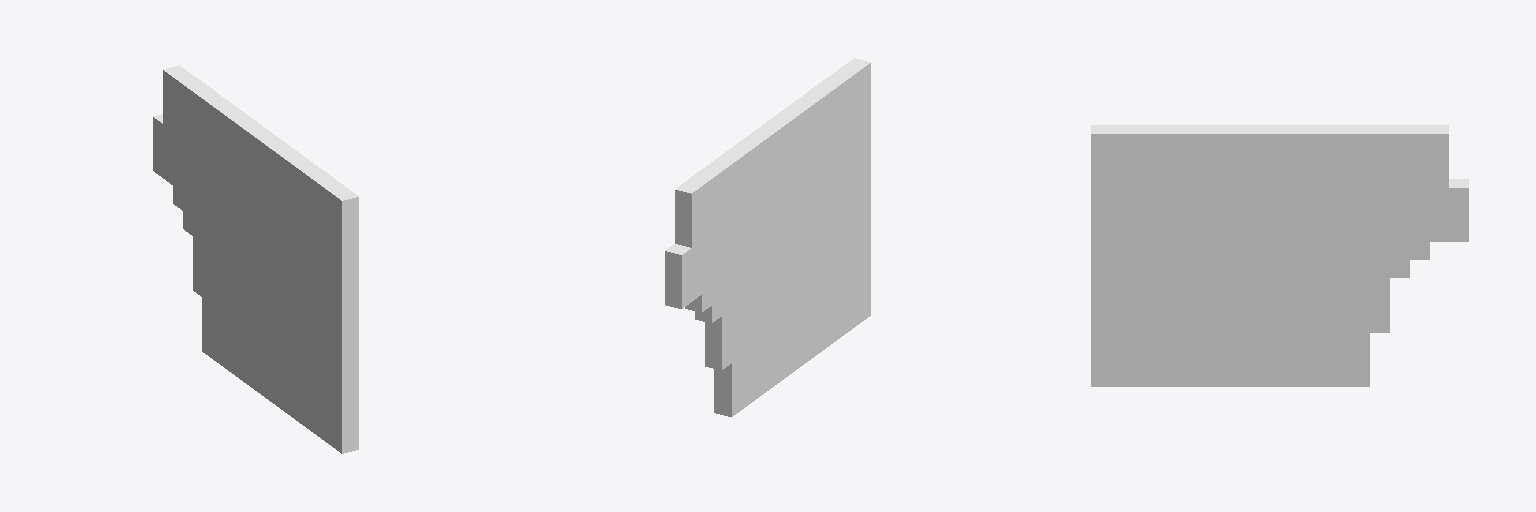
The model's file is SMG.obj.
3 renders of one model, left to right at view 1: azimuth 30°, elevation 25°; view 2: azimuth 150°, elevation 25°; view 3: azimuth 270°, elevation 25°, orthographic.
Parts seen in each view (by area): view 1: object 1; view 2: object 1; view 3: object 1.
Part boxes in pixels (bbox=[...]): object 1: bbox=[153, 65, 358, 453]; object 1: bbox=[665, 58, 870, 416]; object 1: bbox=[1091, 125, 1468, 386].
Bounding box in the file's own units: 0.1 × 1.4 × 1.9.